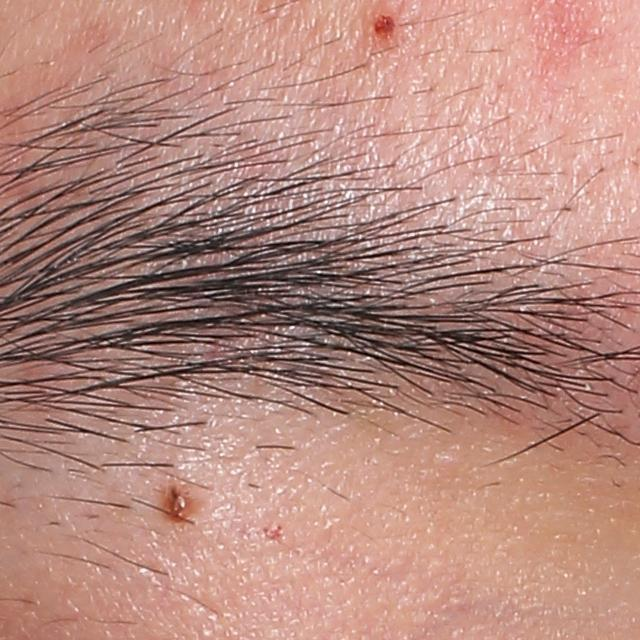nevus: (157, 483, 201, 523)
other: (366, 7, 405, 40)
